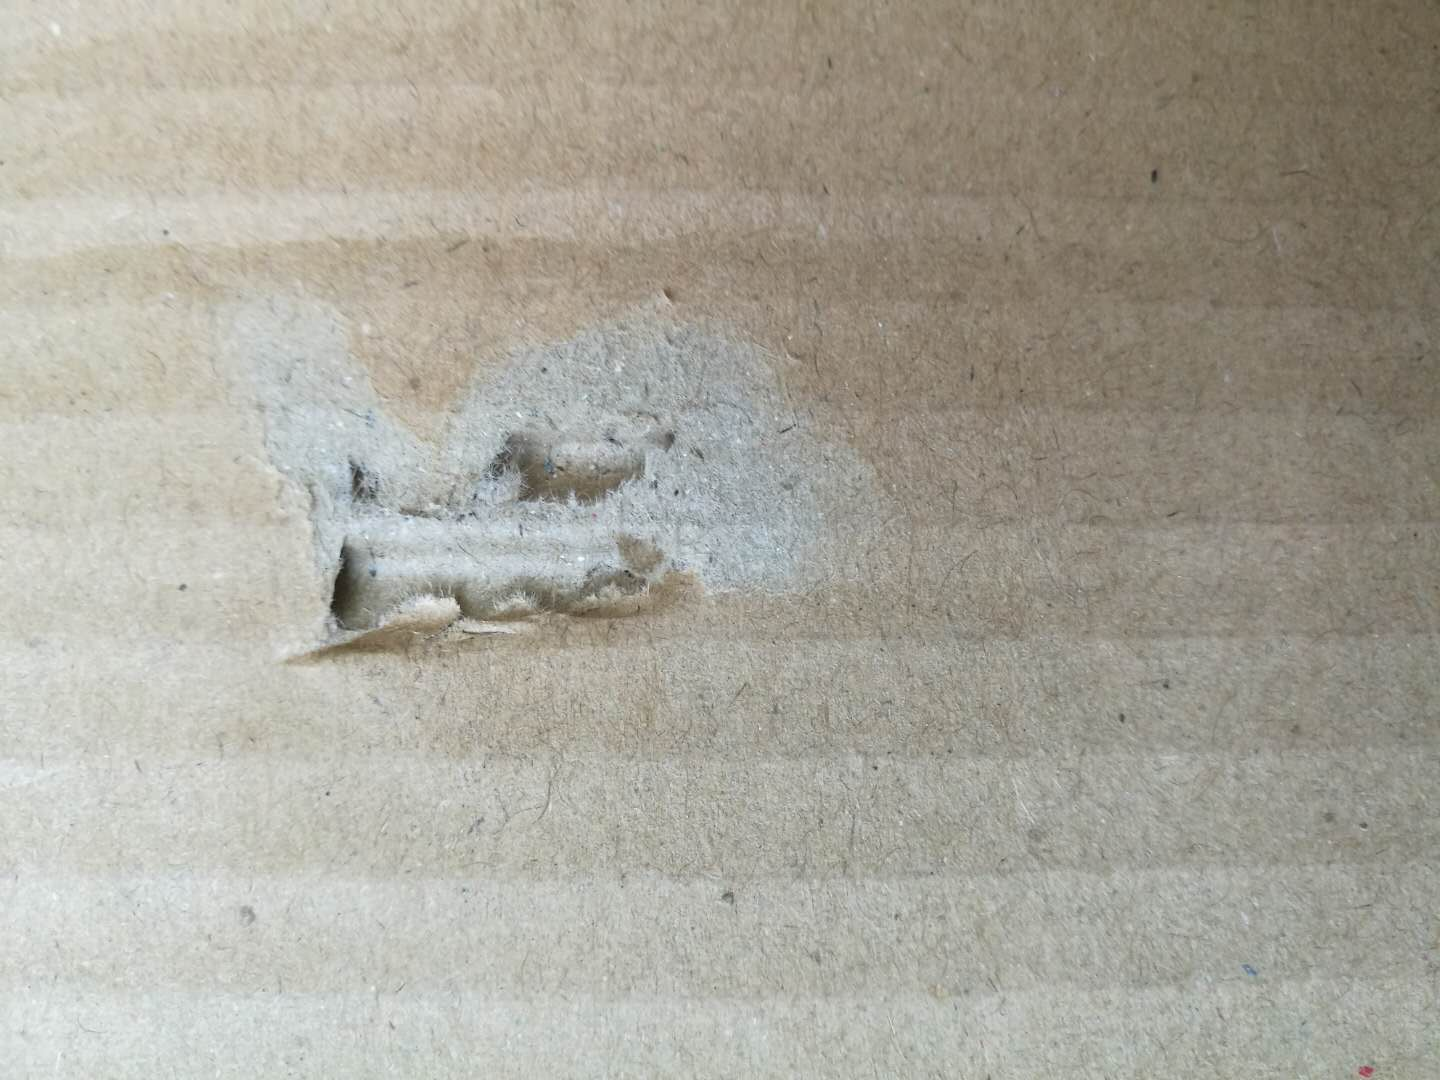defect: (155, 218, 926, 706)
